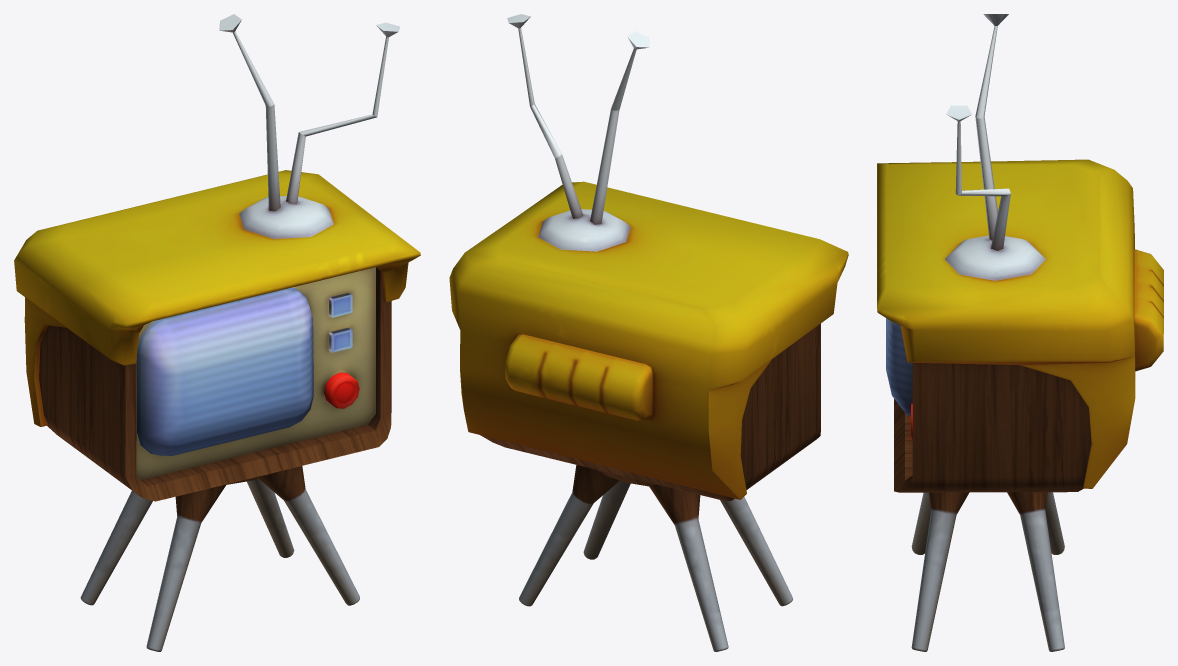
The model's file is TVOld01.FBX.
3 renders of one model, left to right at view 1: azimuth 30°, elevation 25°; view 2: azimuth 150°, elevation 25°; view 3: azimuth 270°, elevation 25°, orthographic. The views are drawn at different scales.
Parts seen in each view (by area): view 1: TVOld01; view 2: TVOld01; view 3: TVOld01.
Boxes of the visible parts, box(x1,y1,x2,y2) form: TVOld01: box(14, 14, 420, 651); TVOld01: box(449, 14, 848, 651); TVOld01: box(877, 14, 1163, 651).
Size of what is drawn, in the model's own units: 0.9163 by 1.61 by 0.6983.
